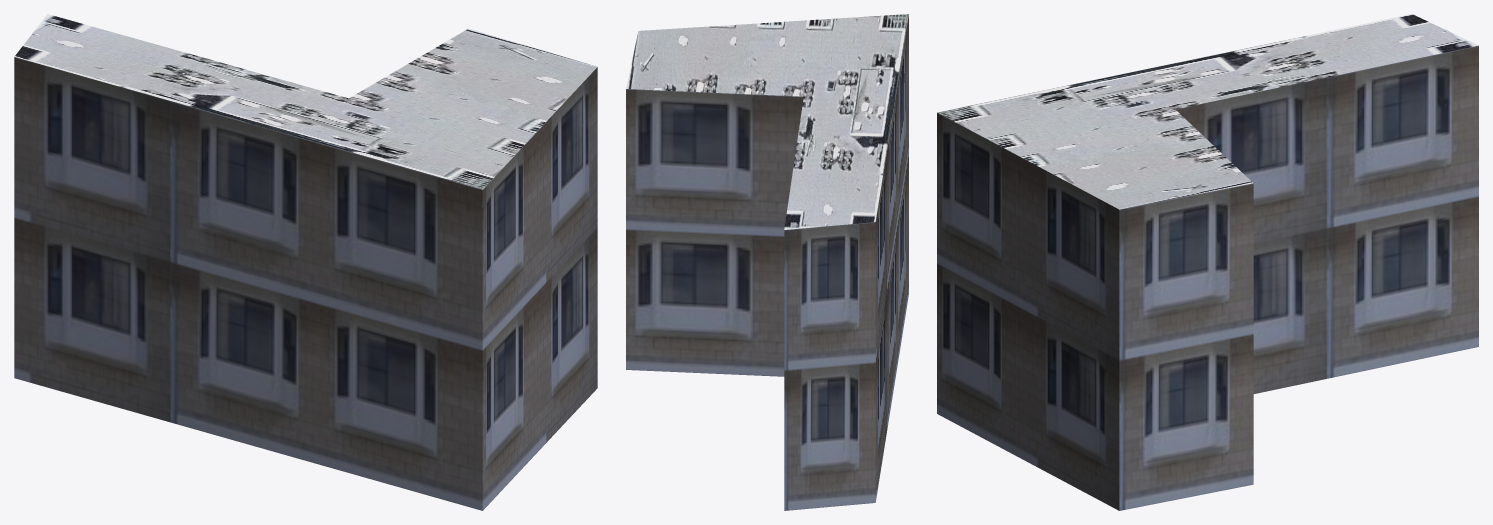
The model's file is ResTex__525.fbx.
3 renders of one model, left to right at view 1: azimuth 30°, elevation 25°; view 2: azimuth 150°, elevation 25°; view 3: azimuth 270°, elevation 25°, orthographic. The views are drawn at different scales.
Parts seen in each view (by area): view 1: CityEngineMaterial_3_m, CityEngineMaterial_4_m; view 2: CityEngineMaterial_3_m, CityEngineMaterial_4_m; view 3: CityEngineMaterial_3_m, CityEngineMaterial_4_m.
Boxes of the visible parts, x1,y1,x2,y2 form: CityEngineMaterial_3_m: (14, 57, 597, 510); CityEngineMaterial_4_m: (14, 14, 597, 189); CityEngineMaterial_3_m: (626, 14, 908, 510); CityEngineMaterial_4_m: (626, 14, 908, 229); CityEngineMaterial_3_m: (937, 45, 1478, 510); CityEngineMaterial_4_m: (937, 14, 1478, 209).
Bounding box in the file's own units: 8.35 × 6 × 9.78.
2 materials, 2 textured.
